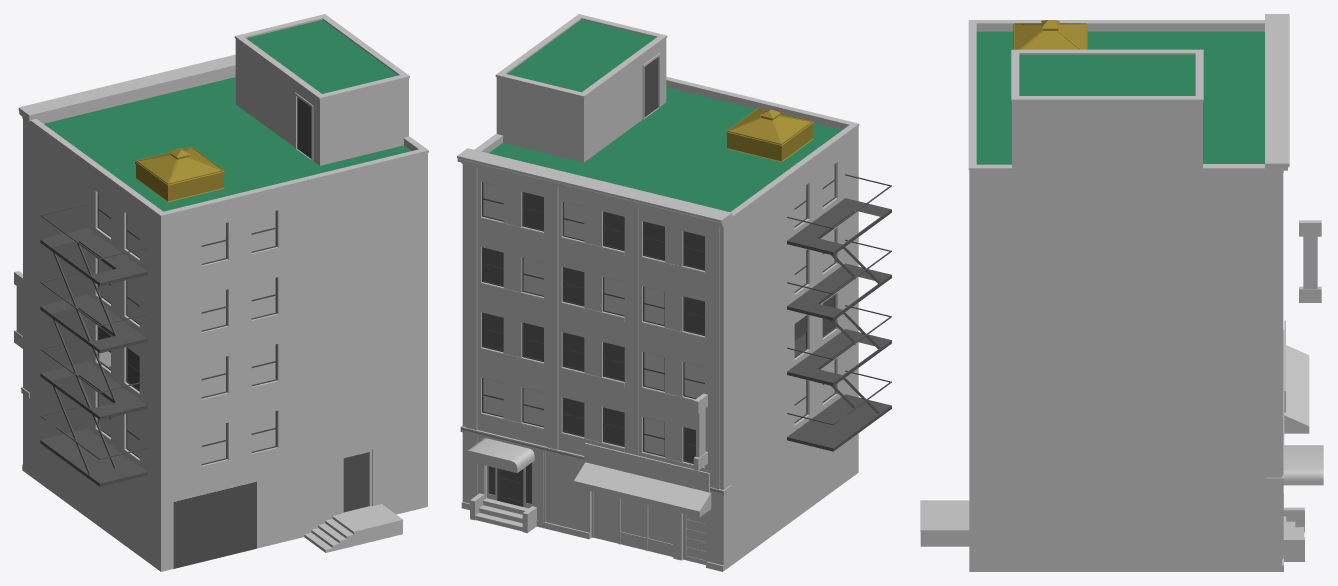
The model's file is mcp_building_05_LOD_1.FBX.
The picture shows the model from 3 angles, left to right: view 1: azimuth 30°, elevation 25°; view 2: azimuth 150°, elevation 25°; view 3: azimuth 270°, elevation 25°; orthographic projection. The views are drawn at different scales.
Visible parts, largest first — view 1: mcp_building_05_walls_02, mcp_building_05_roof, mcp_building_05_props_01, mcp_building_05_01, mcp_building_05_metal, mcp_building_05_props_02, mcp_building_05_brick_01, mcp_building_05_02, mcp_building_05_door_03, mcp_building_05_door_02; view 2: mcp_building_05_brick_01, mcp_building_05_walls_02, mcp_building_05_01, mcp_building_05_roof, mcp_building_05_props_01, mcp_building_05_windows_01, mcp_building_05_windows_02, mcp_building_05_metal, mcp_building_05_props_02, mcp_building_05_02, mcp_building_05_door_02, mcp_building_05_glass_03 (+1 smaller); view 3: mcp_building_05_walls_02, mcp_building_05_roof, mcp_building_05_01, mcp_building_05_brick_01, mcp_building_05_metal, mcp_building_05_props_02.
Part boxes in pixels (x1=…): mcp_building_05_walls_02: x1=30, y1=39, x2=427, y2=571; mcp_building_05_roof: x1=44, y1=19, x2=411, y2=211; mcp_building_05_props_01: x1=40, y1=203, x2=256, y2=568; mcp_building_05_01: x1=14, y1=54, x2=403, y2=552; mcp_building_05_metal: x1=30, y1=14, x2=428, y2=217; mcp_building_05_props_02: x1=135, y1=146, x2=224, y2=202; mcp_building_05_brick_01: x1=23, y1=117, x2=29, y2=475; mcp_building_05_02: x1=97, y1=193, x2=277, y2=465; mcp_building_05_door_03: x1=343, y1=452, x2=369, y2=512; mcp_building_05_door_02: x1=297, y1=97, x2=311, y2=158; mcp_building_05_brick_01: x1=462, y1=164, x2=730, y2=570; mcp_building_05_walls_02: x1=484, y1=38, x2=858, y2=566; mcp_building_05_01: x1=457, y1=52, x2=834, y2=571; mcp_building_05_roof: x1=489, y1=19, x2=841, y2=211; mcp_building_05_props_01: x1=787, y1=174, x2=891, y2=451; mcp_building_05_windows_01: x1=562, y1=202, x2=704, y2=466; mcp_building_05_windows_02: x1=483, y1=182, x2=704, y2=426; mcp_building_05_metal: x1=474, y1=14, x2=859, y2=218; mcp_building_05_props_02: x1=726, y1=108, x2=813, y2=161; mcp_building_05_02: x1=482, y1=164, x2=835, y2=427; mcp_building_05_door_02: x1=644, y1=57, x2=658, y2=117; mcp_building_05_glass_03: x1=488, y1=295, x2=834, y2=503; mcp_building_05_walls_02: x1=969, y1=25, x2=1266, y2=571; mcp_building_05_roof: x1=976, y1=31, x2=1264, y2=164; mcp_building_05_01: x1=920, y1=14, x2=1323, y2=571; mcp_building_05_brick_01: x1=1266, y1=170, x2=1283, y2=571; mcp_building_05_metal: x1=968, y1=20, x2=1264, y2=170; mcp_building_05_props_02: x1=1013, y1=20, x2=1087, y2=49.
Bounding box in the file's own units: 1760 × 2217 × 1712.
